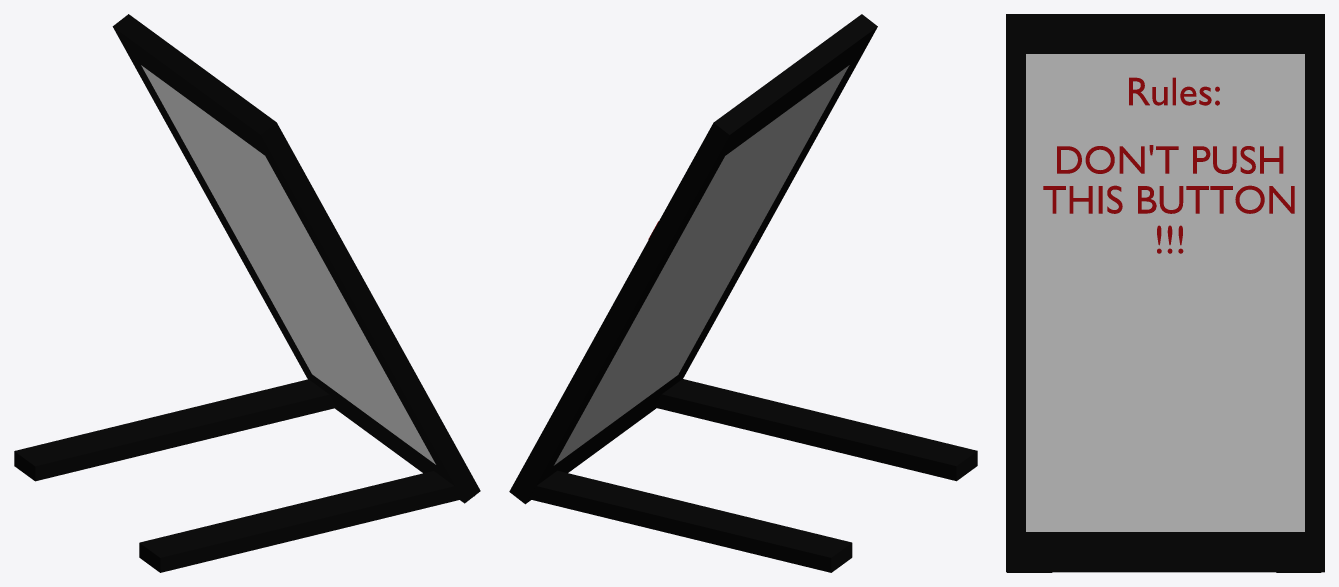
The model's file is Rules.glb.
3 renders of one model, left to right at view 1: azimuth 30°, elevation 25°; view 2: azimuth 150°, elevation 25°; view 3: azimuth 270°, elevation 25°, orthographic. The views are drawn at different scales.
Visible parts, largest first — view 1: Cube.003, Cube, Cube.001, Cube.002; view 2: Cube.003, Cube, Cube.002, Cube.001; view 3: Cube.003, Cube, Text.001, Text.
Part boxes in pixels (bbox=[...]): Cube.003: bbox=[141, 65, 435, 464]; Cube: bbox=[112, 14, 480, 503]; Cube.001: bbox=[139, 471, 474, 572]; Cube.002: bbox=[14, 379, 336, 481]; Cube.003: bbox=[554, 65, 849, 465]; Cube: bbox=[509, 14, 877, 504]; Cube.002: bbox=[529, 470, 852, 572]; Cube.001: bbox=[654, 379, 977, 481]; Cube.003: bbox=[1026, 54, 1304, 531]; Cube: bbox=[1006, 14, 1324, 572]; Text.001: bbox=[1043, 145, 1294, 253]; Text: bbox=[1129, 77, 1219, 105].
Bounding box in the file's own units: 9.98 × 12.73 × 8.
